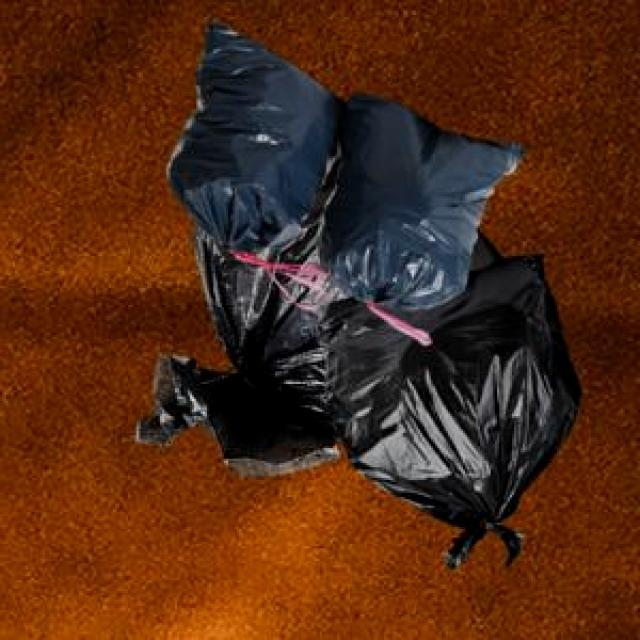Trashbag: (325, 253, 584, 536), (159, 14, 344, 265), (316, 92, 525, 311)
